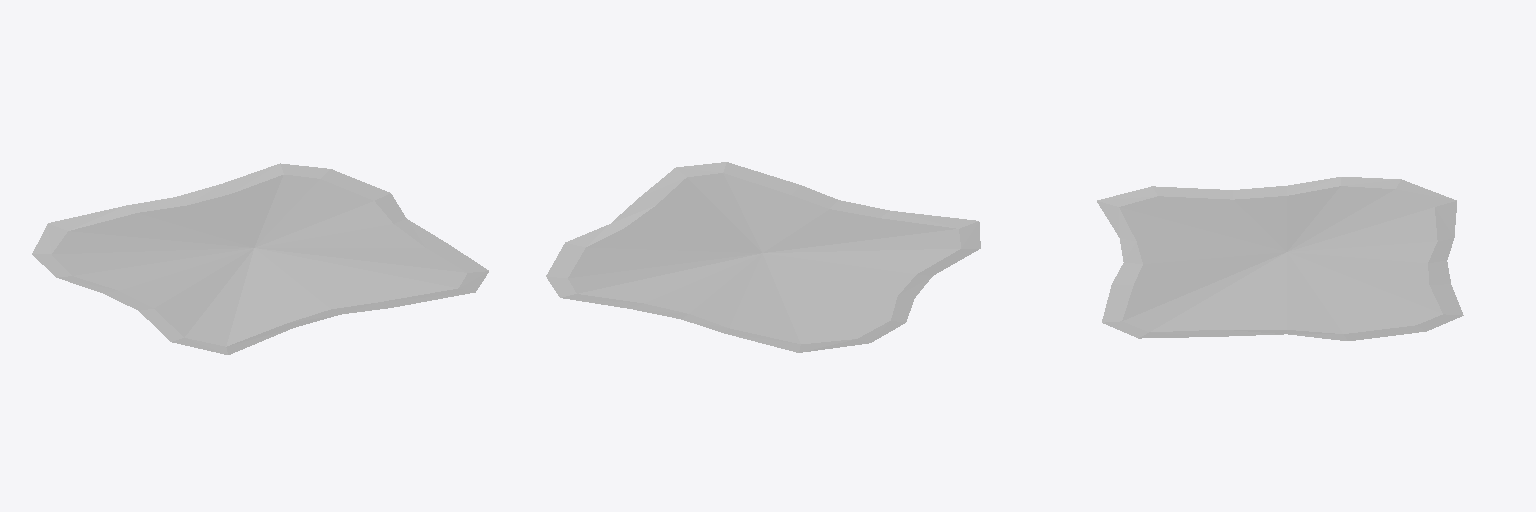
File: wt_rug_04.obj
The picture shows the model from 3 angles: view 1: azimuth 30°, elevation 25°; view 2: azimuth 150°, elevation 25°; view 3: azimuth 270°, elevation 25°; orthographic projection.
Visible parts, largest first — view 1: wt_rug_04; view 2: wt_rug_04; view 3: wt_rug_04.
Boxes of the visible parts, <box> form: wt_rug_04: <box>32,163,488,354</box>; wt_rug_04: <box>546,162,980,352</box>; wt_rug_04: <box>1097,177,1463,340</box>.
Size of the model in its own units: 4.75 by 0.1316 by 4.48.